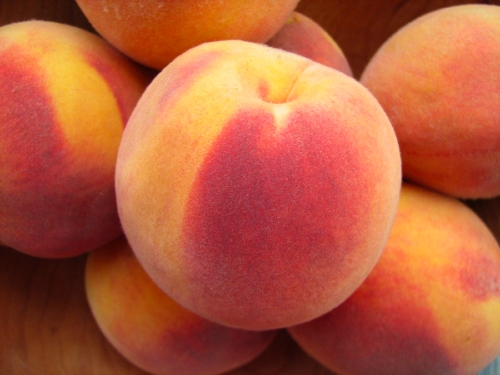peach: (119, 42, 391, 323), (1, 32, 121, 254), (359, 186, 499, 372), (369, 14, 500, 181), (83, 267, 192, 375)
